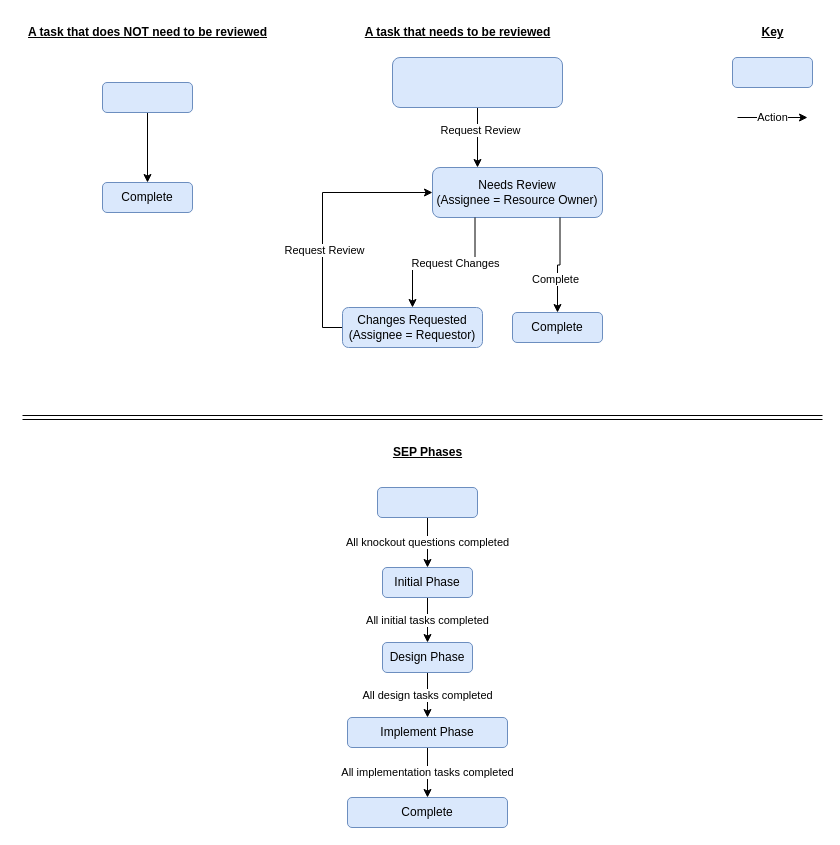
This 840x845 diagram has some shape labels left out. Here are the shapes that lost their labels. From the top down, the centre of each, then its label:
At pixel 477 82: "To-Do (Assignee = Requestor)".
At pixel 772 72: "Status".
At pixel 147 97: "To-Do".
At pixel 427 502: "Knockout Phase".
